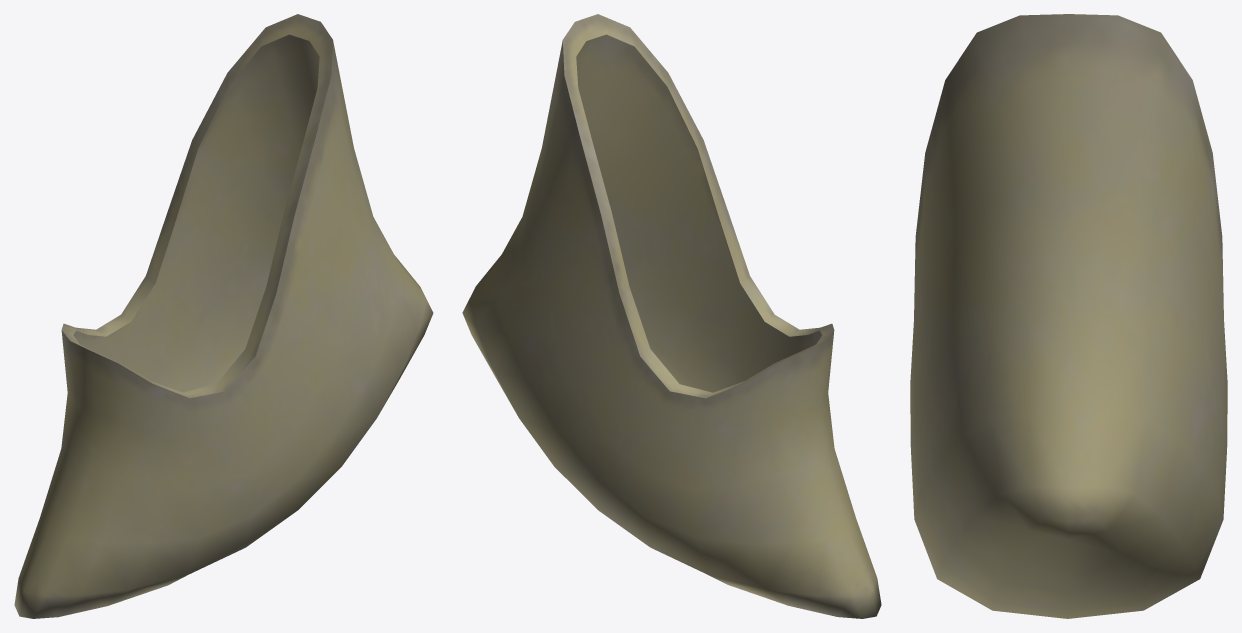
The model's file is wm_rivendell_sword_a02_pommel.fbx.
3 views of the same model, side by side, from view 1: azimuth 30°, elevation 25°; view 2: azimuth 150°, elevation 25°; view 3: azimuth 270°, elevation 25° (orthographic). The views are drawn at different scales.
Parts seen in each view (by area): view 1: wm_rivendell_sword_a02_pommel; view 2: wm_rivendell_sword_a02_pommel; view 3: wm_rivendell_sword_a02_pommel.
Part boxes in pixels (box(x1,y1,x2,y2)): wm_rivendell_sword_a02_pommel: box(14, 14, 433, 618); wm_rivendell_sword_a02_pommel: box(462, 14, 881, 618); wm_rivendell_sword_a02_pommel: box(910, 14, 1227, 618).
Size of the model in its own units: 0.0529 by 0.0253 by 0.0647.
Materials: 1 (1 with a texture image).
